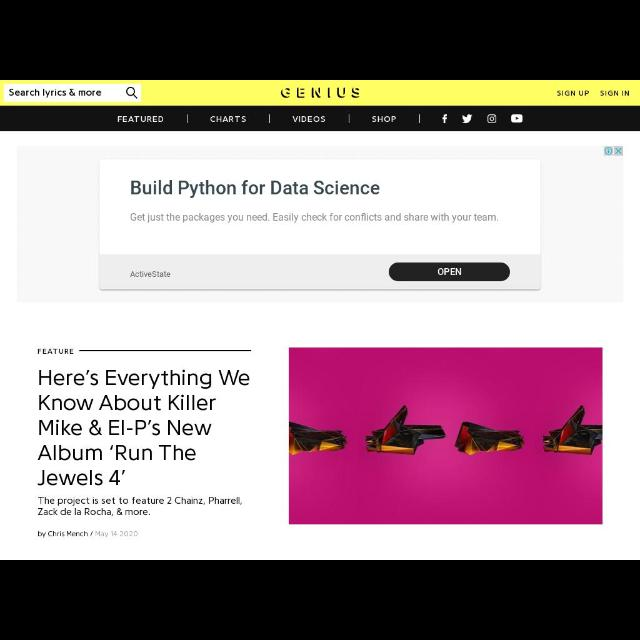icon: (461, 112, 474, 126), (125, 86, 138, 98), (511, 113, 524, 123), (487, 114, 497, 125), (440, 112, 448, 124)
iframe: (16, 147, 624, 299)
image: (289, 347, 603, 525), (280, 86, 362, 100)
input: (5, 84, 140, 102)
multitab: (1, 106, 639, 130)
text: (37, 368, 251, 490), (39, 495, 243, 517), (38, 530, 138, 538), (9, 88, 101, 96), (116, 115, 164, 123), (37, 348, 74, 356), (209, 116, 245, 124), (558, 89, 588, 98), (368, 114, 398, 122), (290, 116, 328, 122), (600, 91, 628, 97)
